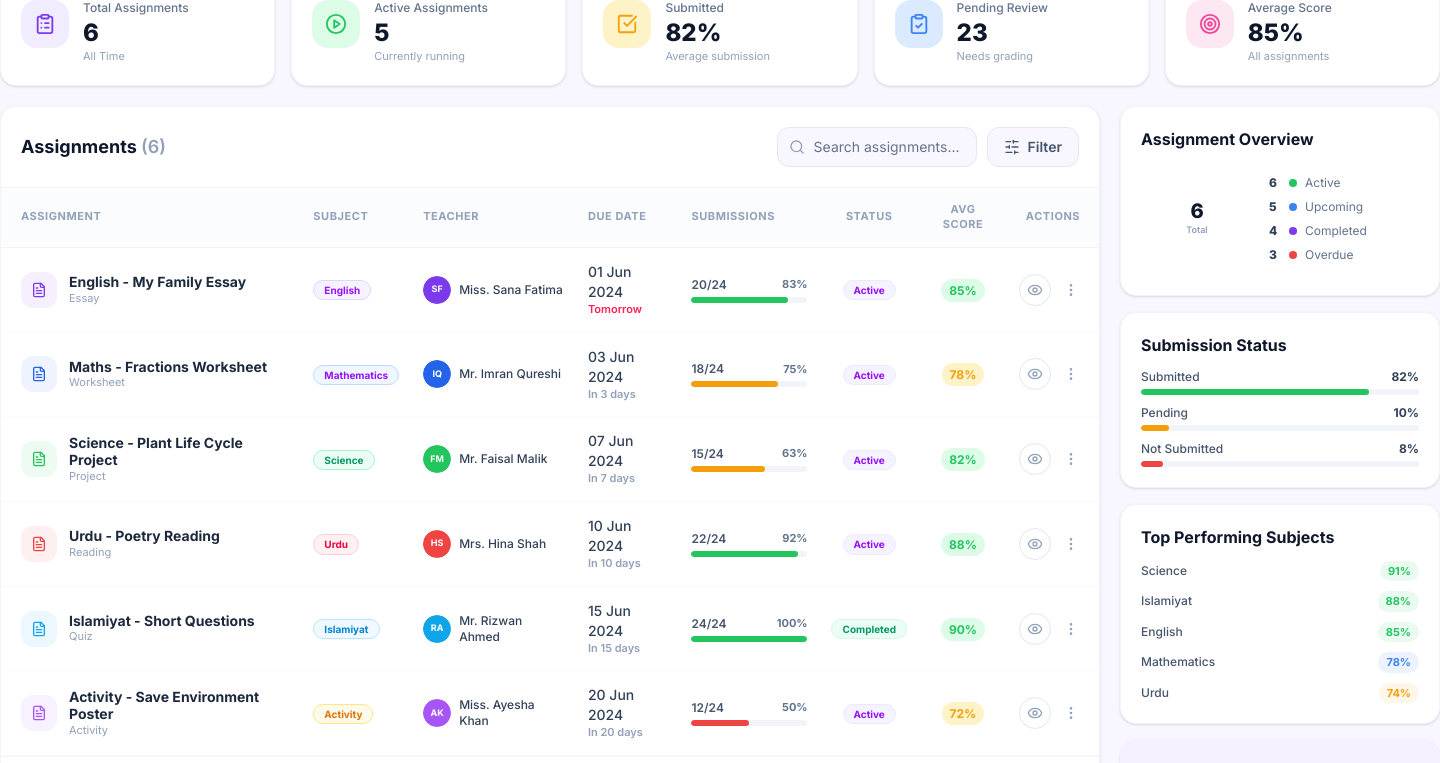
AssignmentsPro › duplicates an assignment and shows a toast
Click the button without text in the row of "English - My Family Essay" at (1071, 290), box top-left (1055, 274), bottom-right (1087, 306)
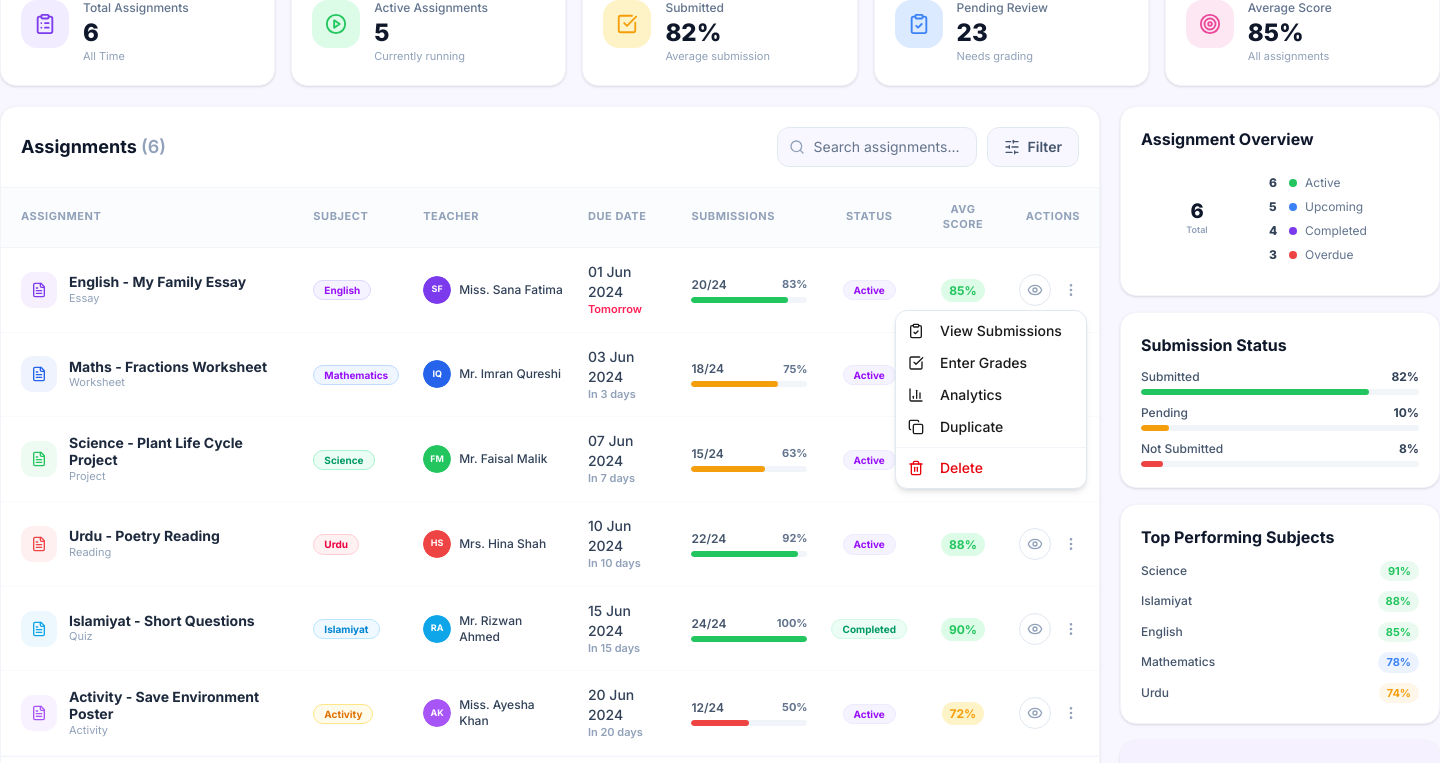
Click the menu item "Duplicate" at (956, 426), box top-left (908, 418), bottom-right (1003, 435)
(page scrolled)
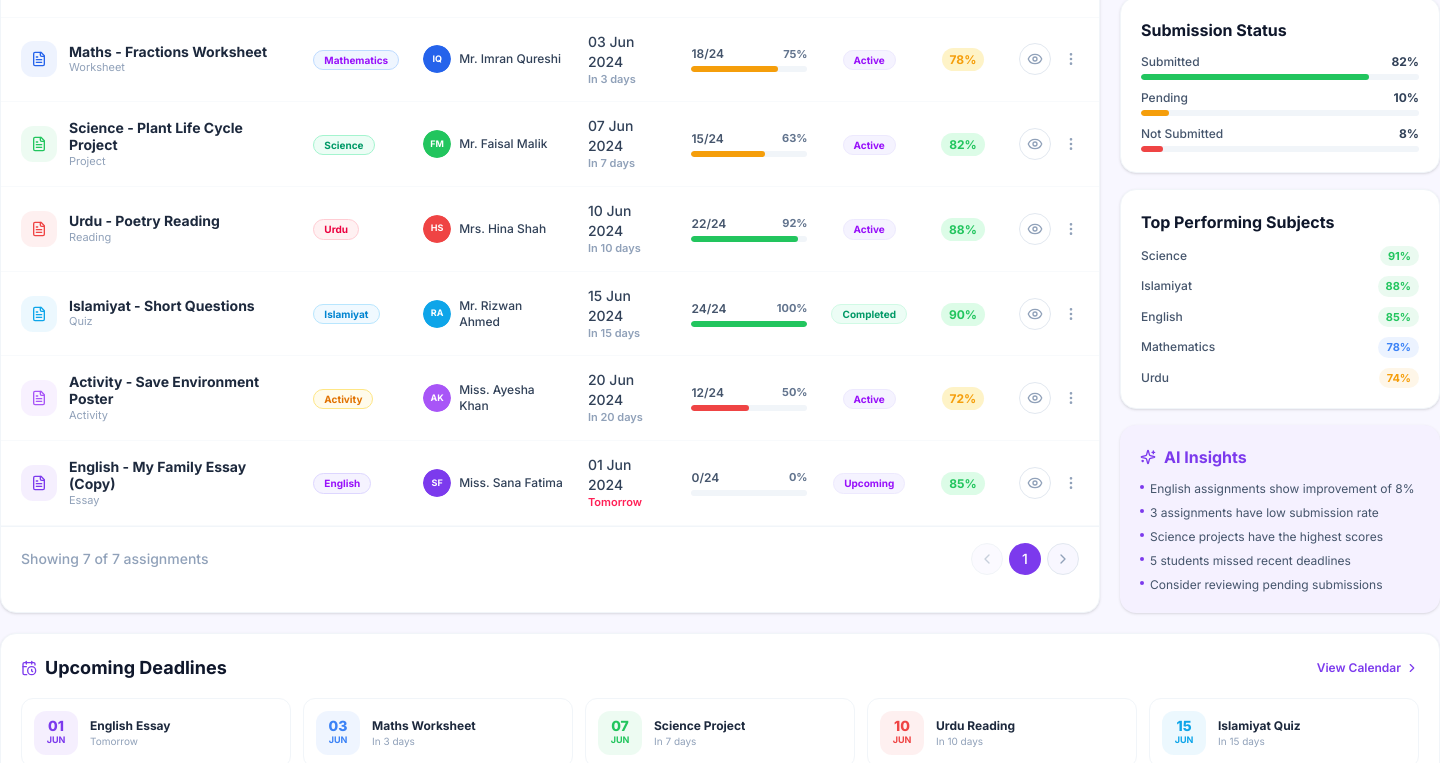
Now the text "English - My Family Essay (Copy)" is shown, box top-left (69, 458), bottom-right (246, 492)
